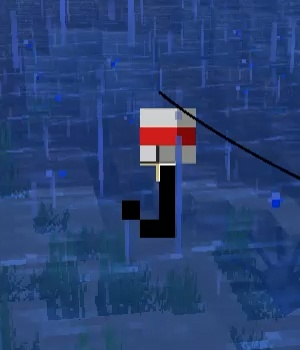up: (116, 93, 203, 236)
